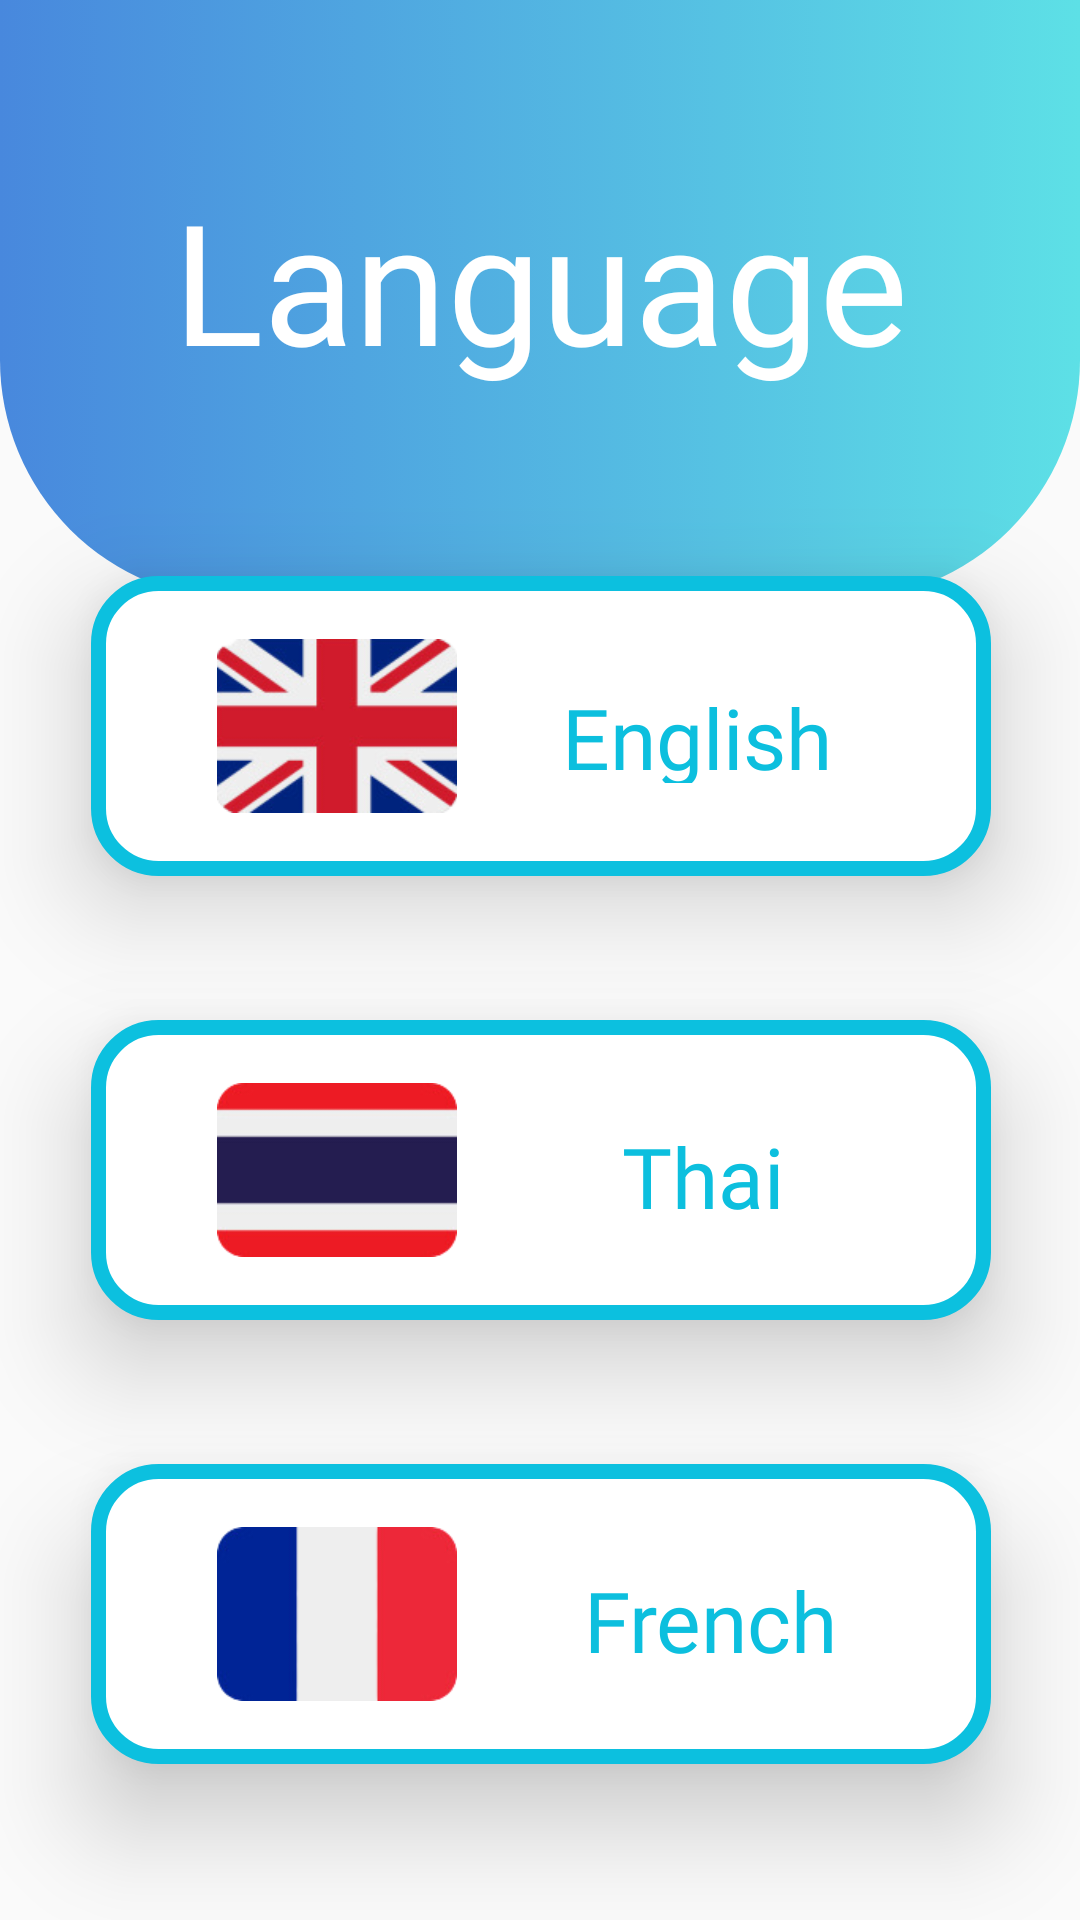

Point at icon controls on the screen. Image size 1080×1920, points as [x,y].
eng: [337,726]
